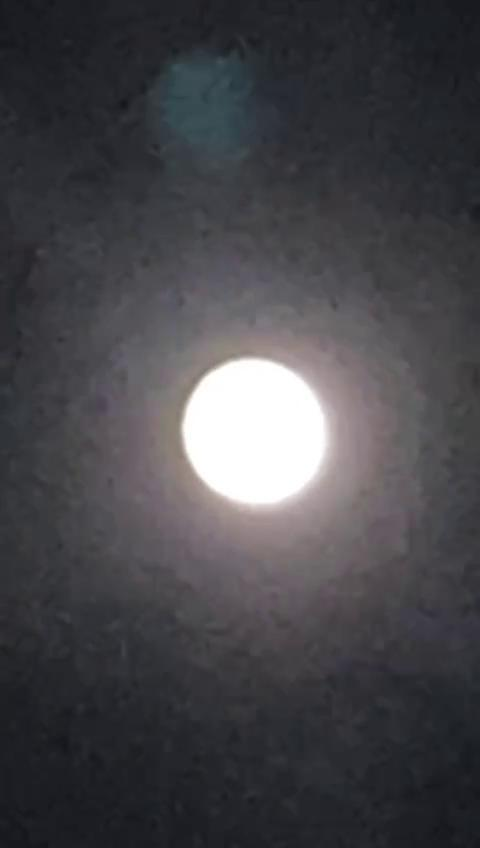moon: (176, 349, 354, 540)
